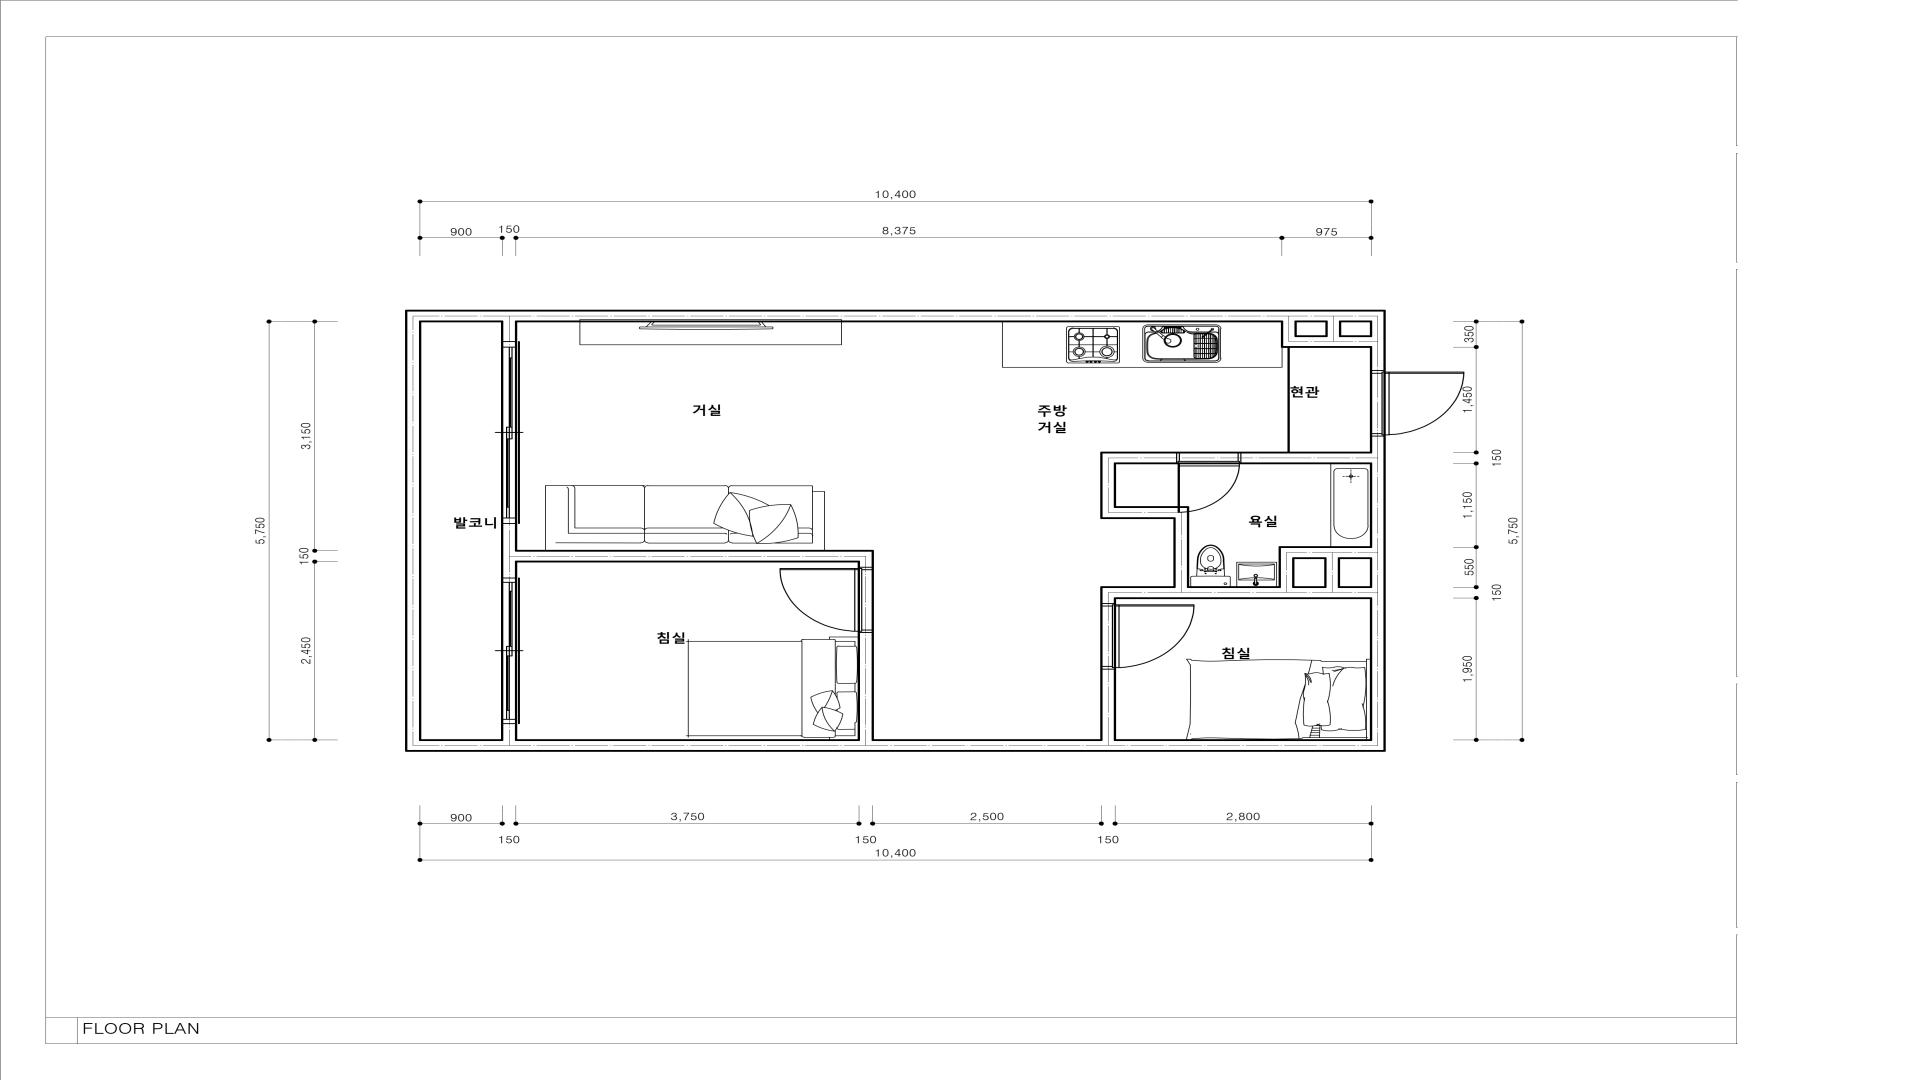door: (1370, 371, 1465, 435), (1100, 604, 1195, 669), (779, 567, 874, 632), (1178, 451, 1241, 506)
wall: (421, 738, 1370, 752), (421, 310, 1386, 322), (405, 310, 421, 752), (1370, 435, 1386, 752), (517, 550, 874, 563), (1116, 585, 1370, 599), (857, 632, 874, 738), (1241, 451, 1370, 464), (1279, 546, 1370, 559), (1280, 335, 1370, 348), (1100, 669, 1116, 738), (1174, 520, 1189, 587), (1100, 451, 1178, 464), (1116, 506, 1189, 520), (1100, 464, 1116, 520), (501, 524, 517, 578), (1370, 322, 1386, 372), (1279, 559, 1295, 587), (1324, 559, 1340, 585), (501, 322, 517, 342), (1100, 585, 1116, 604), (501, 724, 517, 740), (1280, 322, 1296, 335), (1325, 322, 1341, 335), (857, 563, 874, 567)
window: (501, 342, 520, 524), (501, 578, 520, 724)
